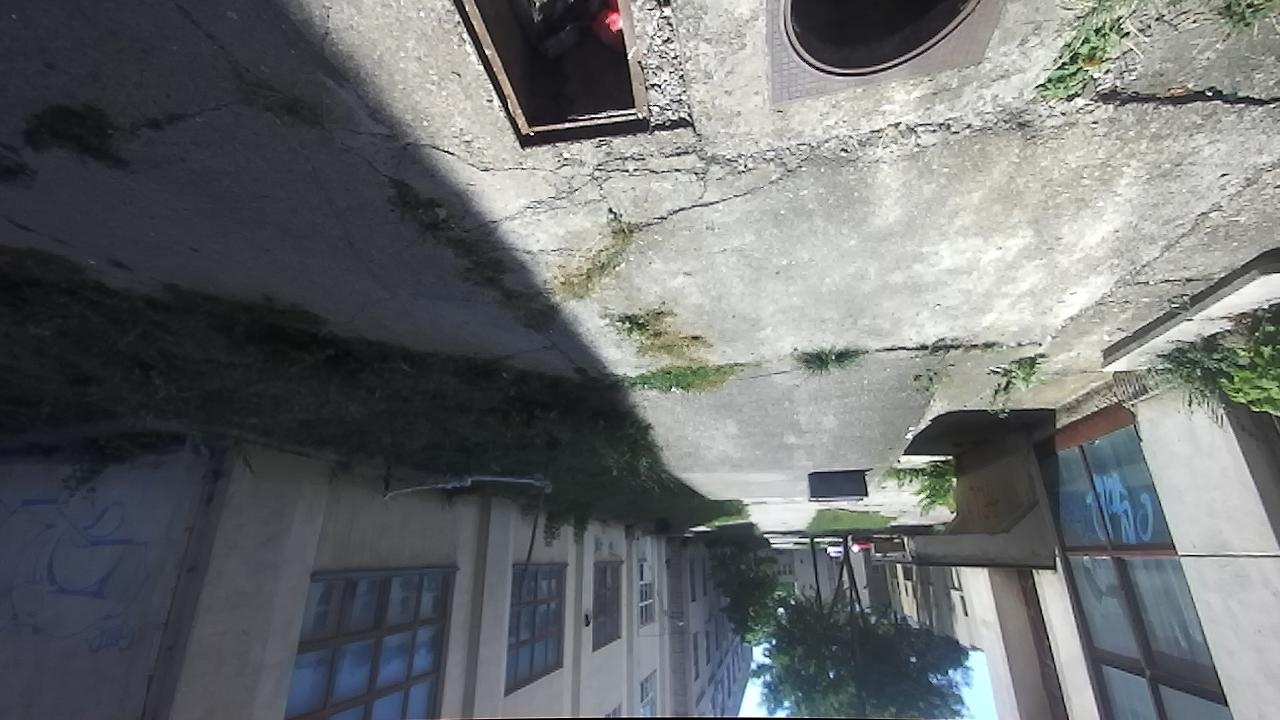drain: (438, 0, 692, 150), (783, 0, 982, 82)
